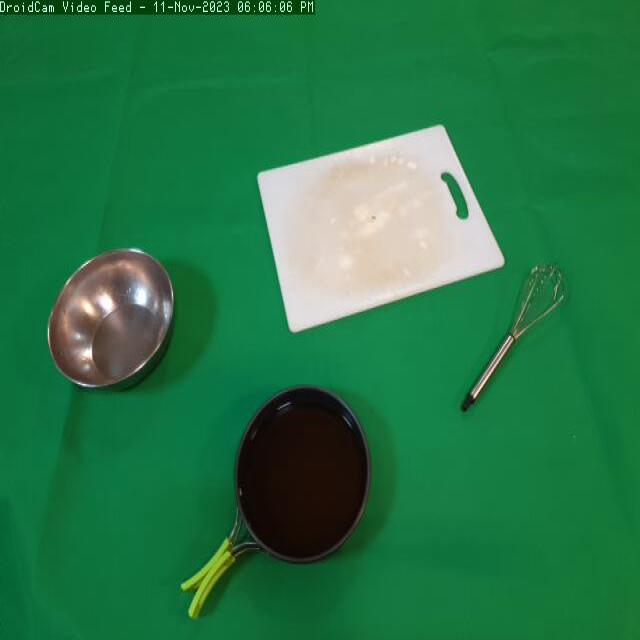bowl: (39, 240, 182, 396)
cutting board: (254, 115, 516, 341)
fullpan: (176, 382, 381, 630)
whisk: (458, 252, 580, 422)
